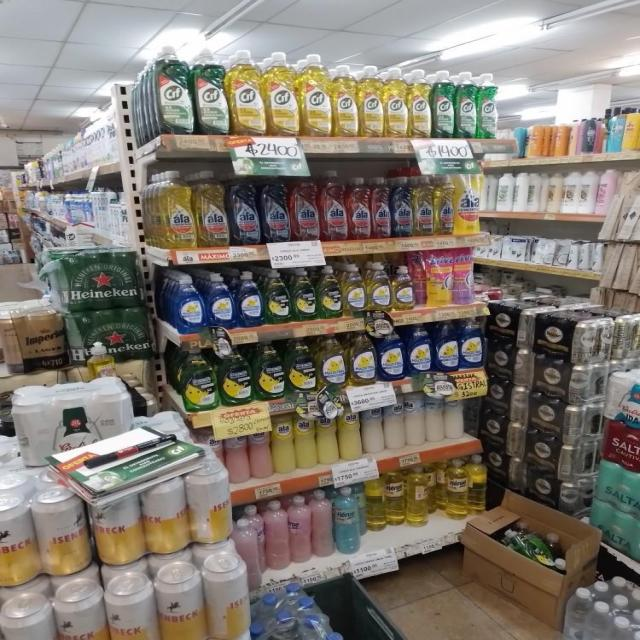ala_conc_amarillo: (155, 169, 195, 249), (196, 169, 228, 248), (434, 174, 454, 236), (414, 174, 433, 237)
ala_conc_azul: (229, 168, 260, 245), (261, 168, 290, 244), (392, 175, 413, 238)
ala_conc_rojo: (291, 169, 319, 241), (320, 169, 347, 241), (348, 175, 371, 240), (372, 176, 391, 239)
ala_crem_amarillo: (272, 413, 294, 475), (338, 404, 361, 461), (295, 410, 316, 470), (317, 409, 338, 465)
ala_crem_blanco: (362, 399, 383, 455), (445, 386, 466, 441), (384, 394, 404, 451), (405, 390, 424, 447), (425, 387, 444, 444)
ala_crem_rosado: (249, 420, 271, 480), (226, 429, 248, 484)
ala_sachet_amarillo: (455, 168, 480, 235)
cif_conc_bot_amarilla: (228, 52, 264, 136), (265, 51, 298, 138), (300, 53, 331, 138), (333, 63, 357, 138), (359, 65, 383, 138), (384, 67, 408, 138), (409, 68, 431, 138)
cif_conc_botella_verde: (152, 45, 192, 136), (194, 48, 227, 136), (432, 70, 454, 139), (477, 72, 498, 139), (456, 72, 476, 139)
drive: (427, 248, 452, 306)
heroe: (334, 485, 361, 555), (406, 465, 433, 526), (443, 458, 468, 519), (384, 469, 405, 526)
magistral_con_amarillo: (318, 333, 346, 390), (348, 330, 376, 386), (318, 264, 342, 320), (366, 262, 391, 313), (343, 262, 365, 318), (392, 265, 416, 311)
magistral_con_azul: (170, 274, 204, 332), (378, 327, 406, 381), (208, 273, 235, 329), (237, 270, 263, 328), (297, 602, 336, 640), (434, 320, 459, 372), (460, 317, 485, 369), (407, 323, 432, 375)
